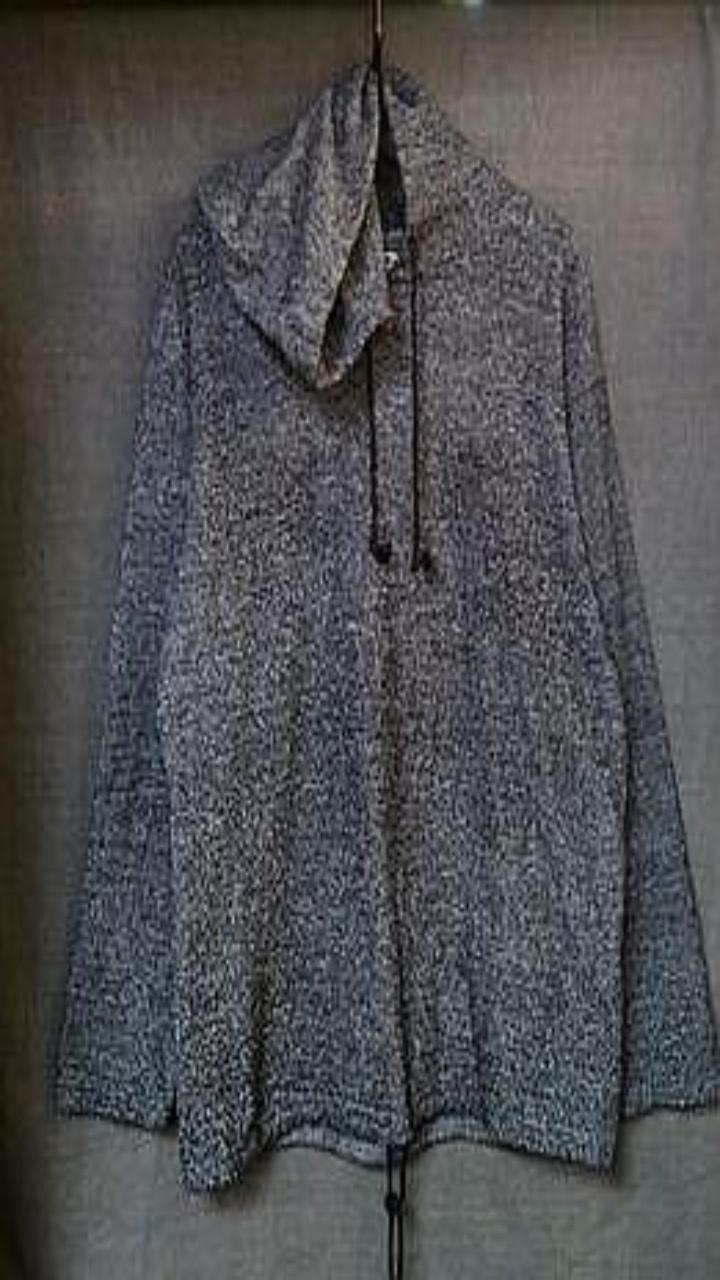Coat: (54, 62, 719, 1190)
